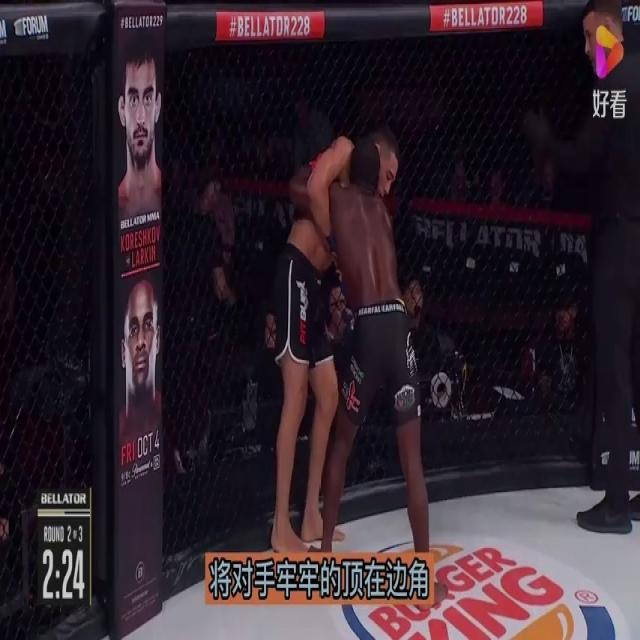fight: (267, 120, 431, 631)
